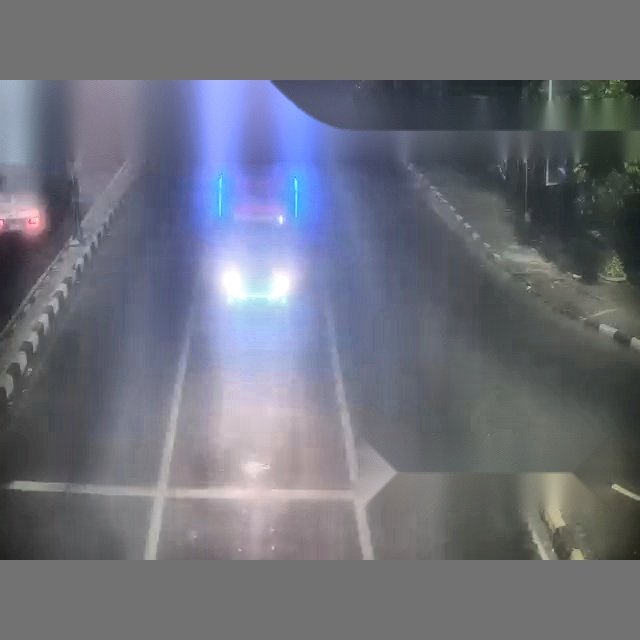Bis: (0, 80, 79, 242)
